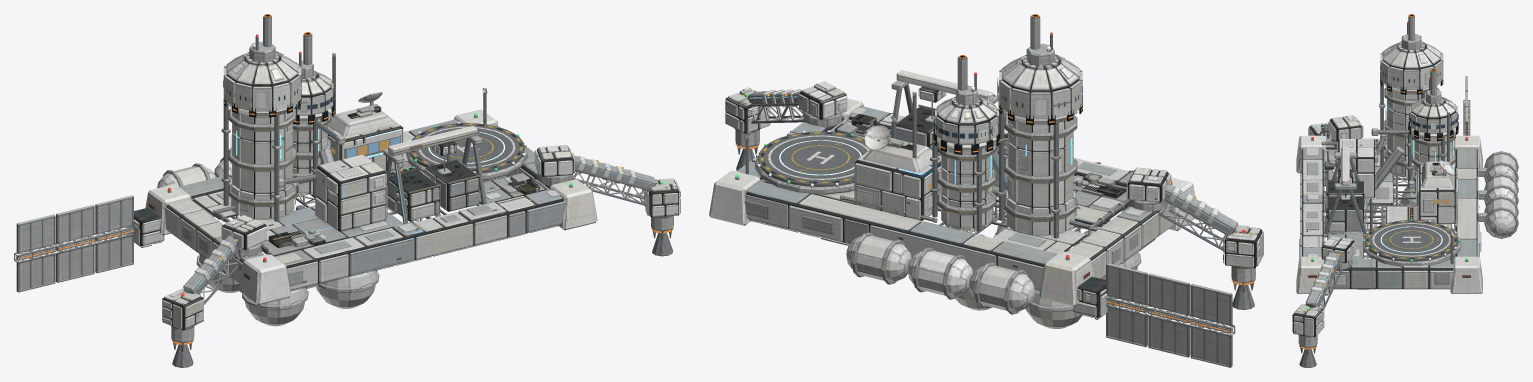
File: mining_platform.glb
3 renders of one model, left to right at view 1: azimuth 30°, elevation 25°; view 2: azimuth 150°, elevation 25°; view 3: azimuth 270°, elevation 25°, orthographic. The views are drawn at different scales.
Parts seen in each view (by area): view 1: Hull_0, Hull_1, Lights; view 2: Hull_0, Hull_1, Lights; view 3: Hull_0, Hull_1, Lights, Glazing.
Part boxes in pixels (left/top/right/bottom): Hull_0: left=14, top=14, right=680, bottom=367; Hull_1: left=126, top=51, right=680, bottom=330; Lights: left=19, top=14, right=673, bottom=344; Hull_0: left=709, top=15, right=1260, bottom=367; Hull_1: left=725, top=55, right=1263, bottom=328; Lights: left=735, top=14, right=1255, bottom=332; Hull_0: left=1292, top=14, right=1518, bottom=367; Hull_1: left=1292, top=41, right=1516, bottom=337; Lights: left=1299, top=14, right=1469, bottom=349; Glazing: left=1380, top=65, right=1458, bottom=128.
Bounding box in the file's own units: 144 × 66.75 × 61.8.
Materials: 3 (2 with a texture image).
